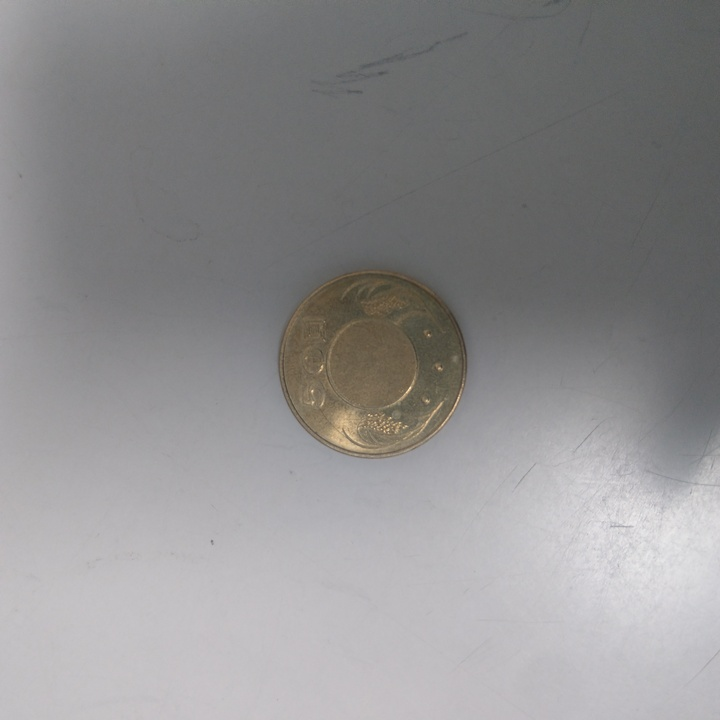50 dollar: (274, 269, 473, 462)
